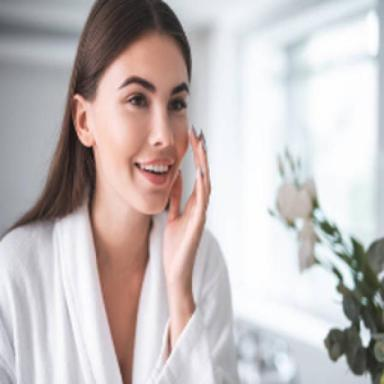normal skin: (73, 31, 211, 384)
